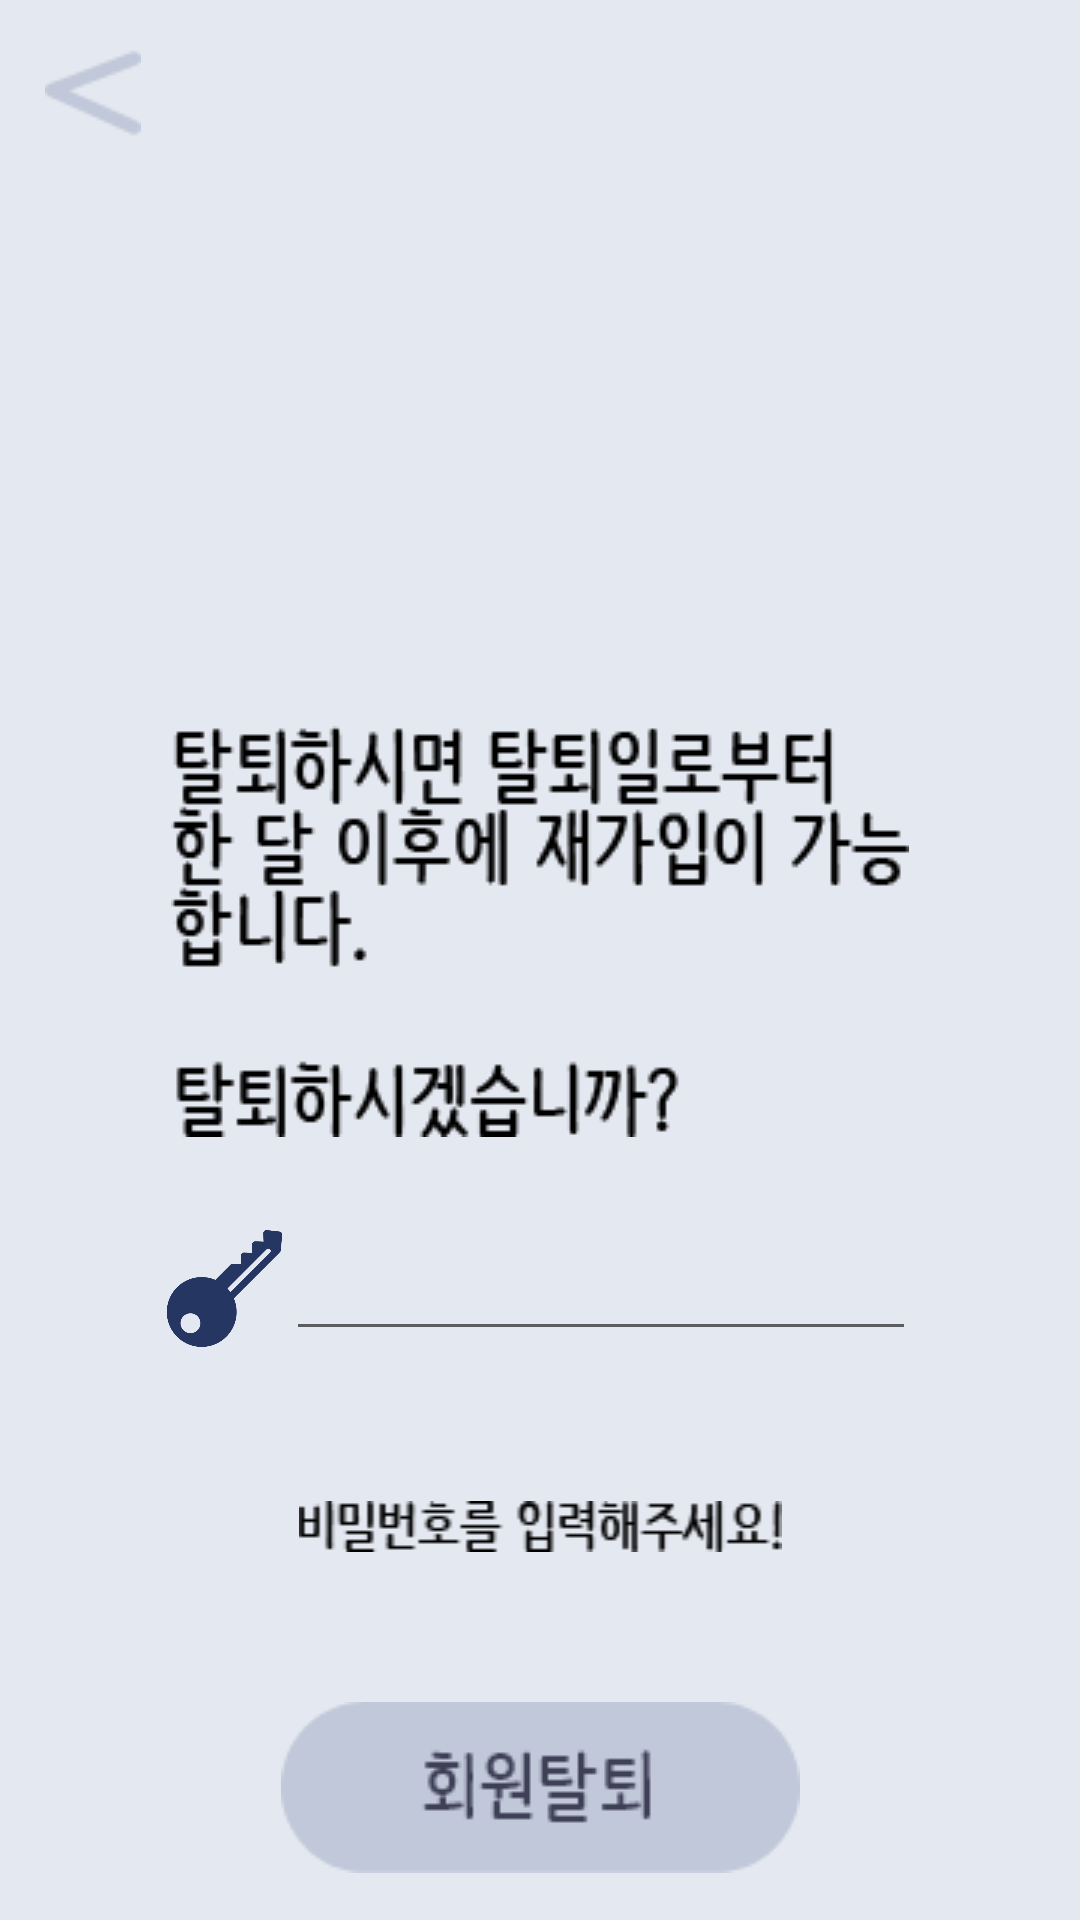

Named icons in this screenshot (1080w x 1920h) and their centers, (x=x, y=y):
goback: (x=93, y=93)
key: (x=224, y=1288)
